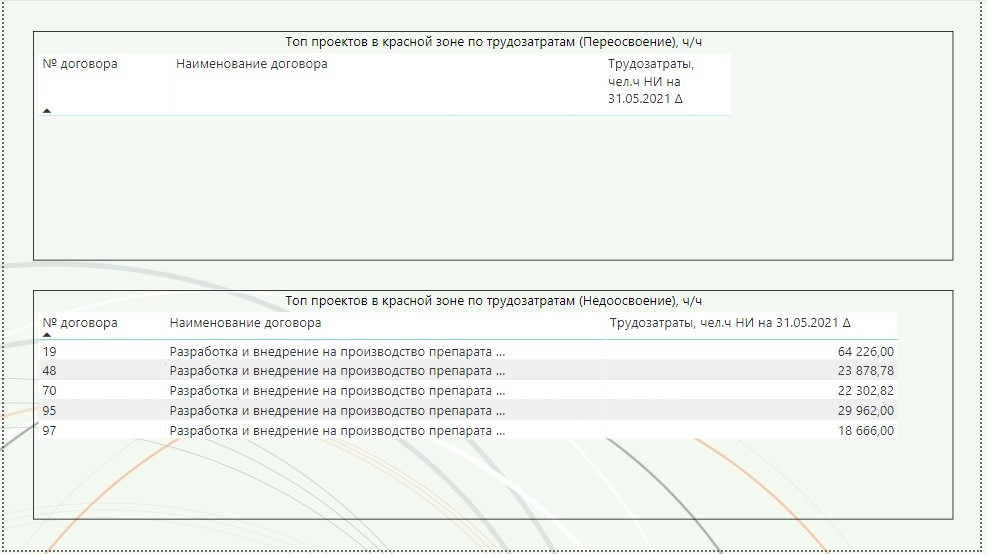

The page's visual inventory and layout, read from the dashboard file:
{"tool":"powerbi","page":{"name":"Топ: трудозатраты","canvas":[1280,720],"ordinal":3},"visuals":[{"type":"tableEx","title":"Топ проектов в красной зоне по трудозатратам (Переосвоение), ч/ч","fields":{"Values":["Портфель (ИТОГ).№ договора","Портфель (ИТОГ).Наименование договора","Sum(Портфель (ИТОГ).Трудозатраты, чел.ч НИ на 31.05.2021 ∆)"]},"box":[37.6,39.3,1206.5,300.8],"z":0},{"type":"tableEx","title":"Топ проектов в красной зоне по трудозатратам (Недоосвоение), ч/ч","fields":{"Values":["Портфель (ИТОГ).№ договора","Портфель (ИТОГ).Наименование договора","Sum(Портфель (ИТОГ).Трудозатраты, чел.ч НИ на 31.05.2021 ∆)"]},"box":[37.6,379.4,1206.5,300.8],"z":1000}]}

Visuals, with their boxes in screenshot pixels (x1, y1, x2, y2), scaled from the page's 1280x720 canvas onto the 987x554 screenshot:
"Топ проектов в красной зоне по трудозатратам (Переосвоение), ч/ч" tableEx: region(29, 30, 959, 262)
"Топ проектов в красной зоне по трудозатратам (Недоосвоение), ч/ч" tableEx: region(29, 292, 959, 523)
